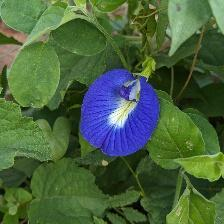shankupushpam: (79, 66, 163, 160)
